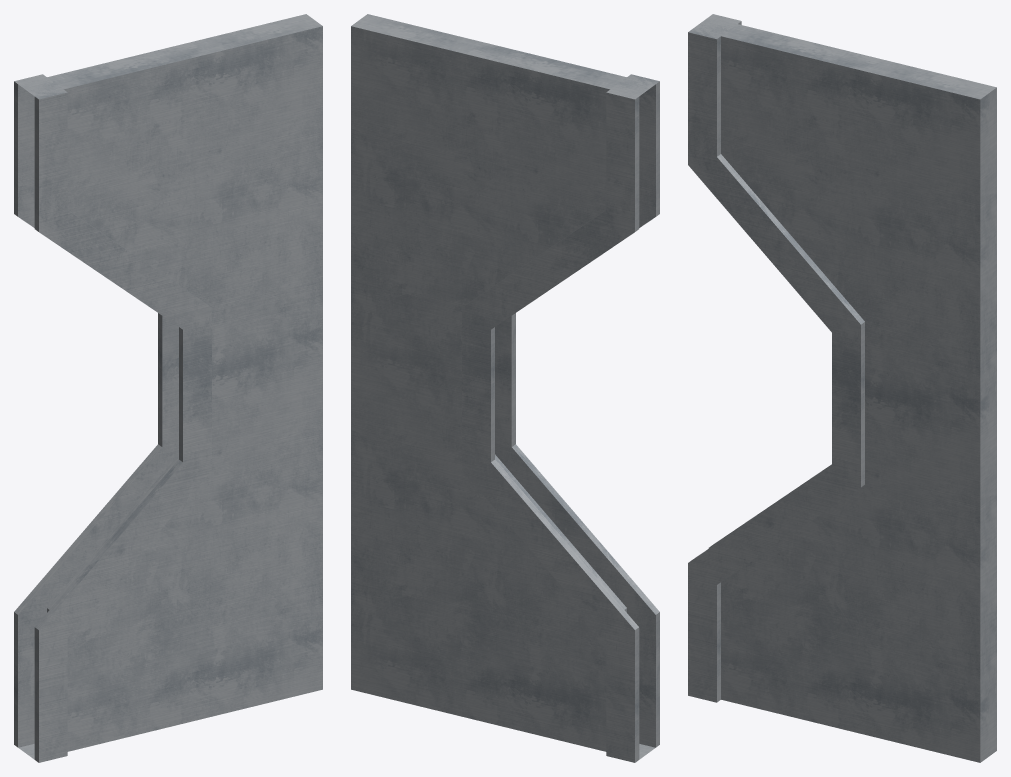
File: Door-Type-1-Left.obj
The picture shows the model from 3 angles, left to right: view 1: azimuth 30°, elevation 25°; view 2: azimuth 150°, elevation 25°; view 3: azimuth 330°, elevation 25°; orthographic projection.
Visible parts, largest first — view 1: Door-Type-1-Left; view 2: Door-Type-1-Left; view 3: Door-Type-1-Left.
Part boxes in pixels (<box>): Door-Type-1-Left: <box>14,14,322,762</box>; Door-Type-1-Left: <box>351,14,659,762</box>; Door-Type-1-Left: <box>688,14,996,762</box>.
Bounding box in the file's own units: 1 × 2.2 × 0.15.
